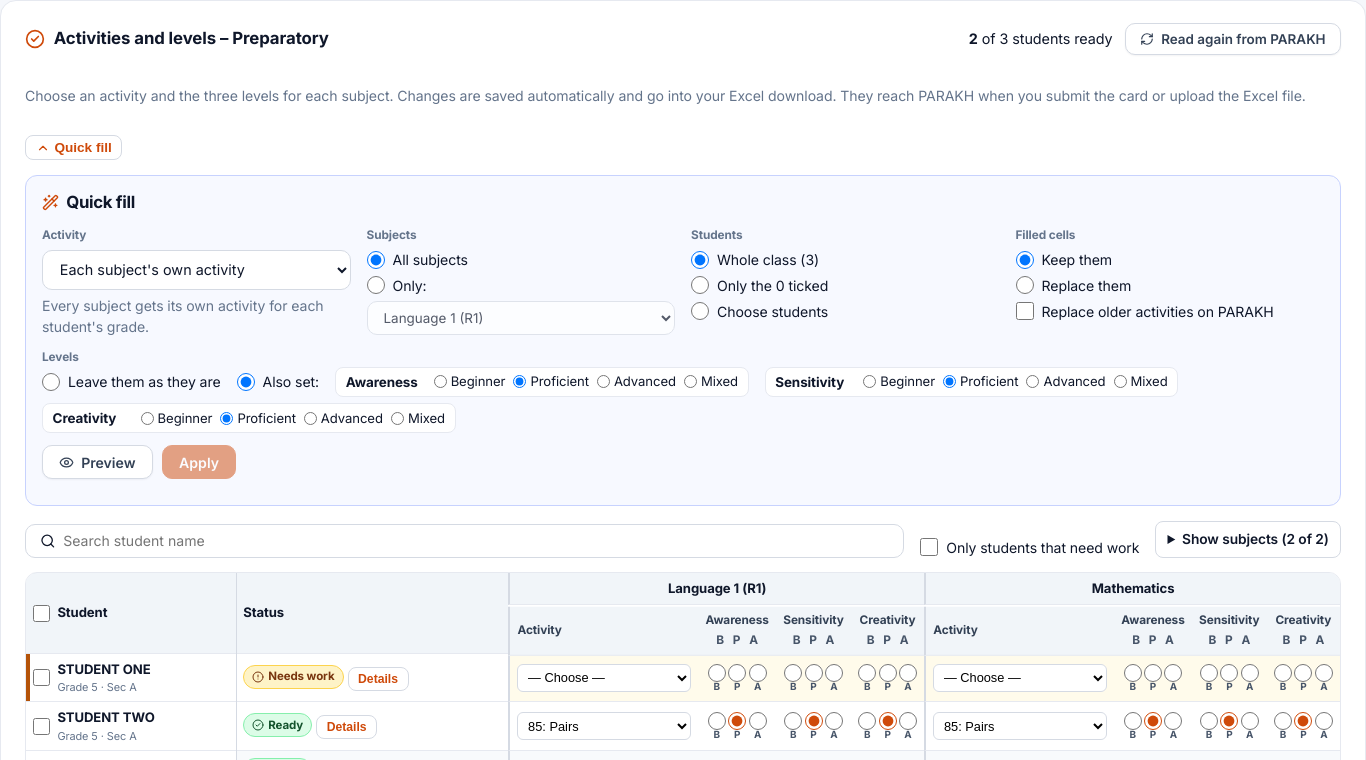
Test: Activities grid › fills the whole class with one activity after a preview
Expected: the text "STUDENT ONE" is shown, [57, 660, 151, 680]
Select "85: Pairs" in the dropdown labelled "Activity" at point(196, 270), box [42, 250, 350, 290]
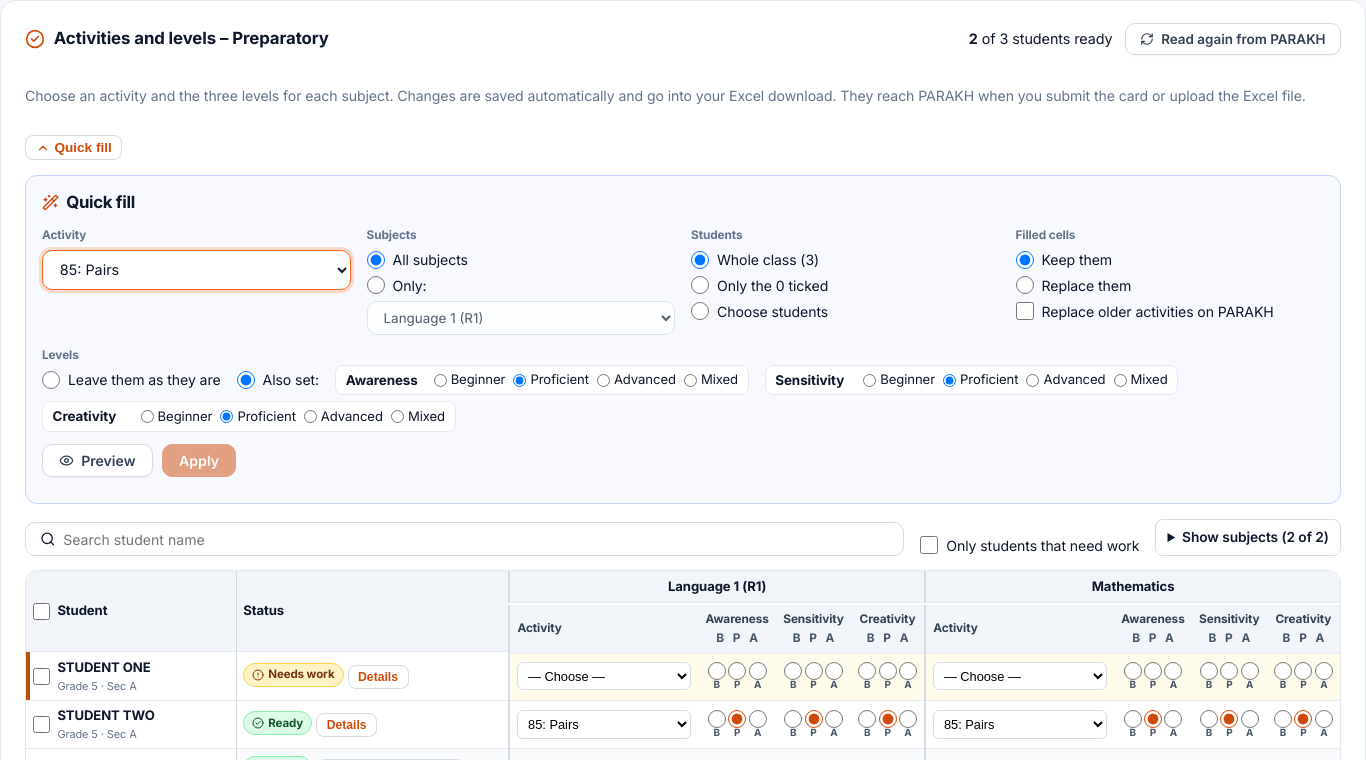
Expected: the button "Apply" is disabled, [162, 444, 236, 477]
Click the button "Preview" at point(97, 460), box [42, 444, 152, 477]
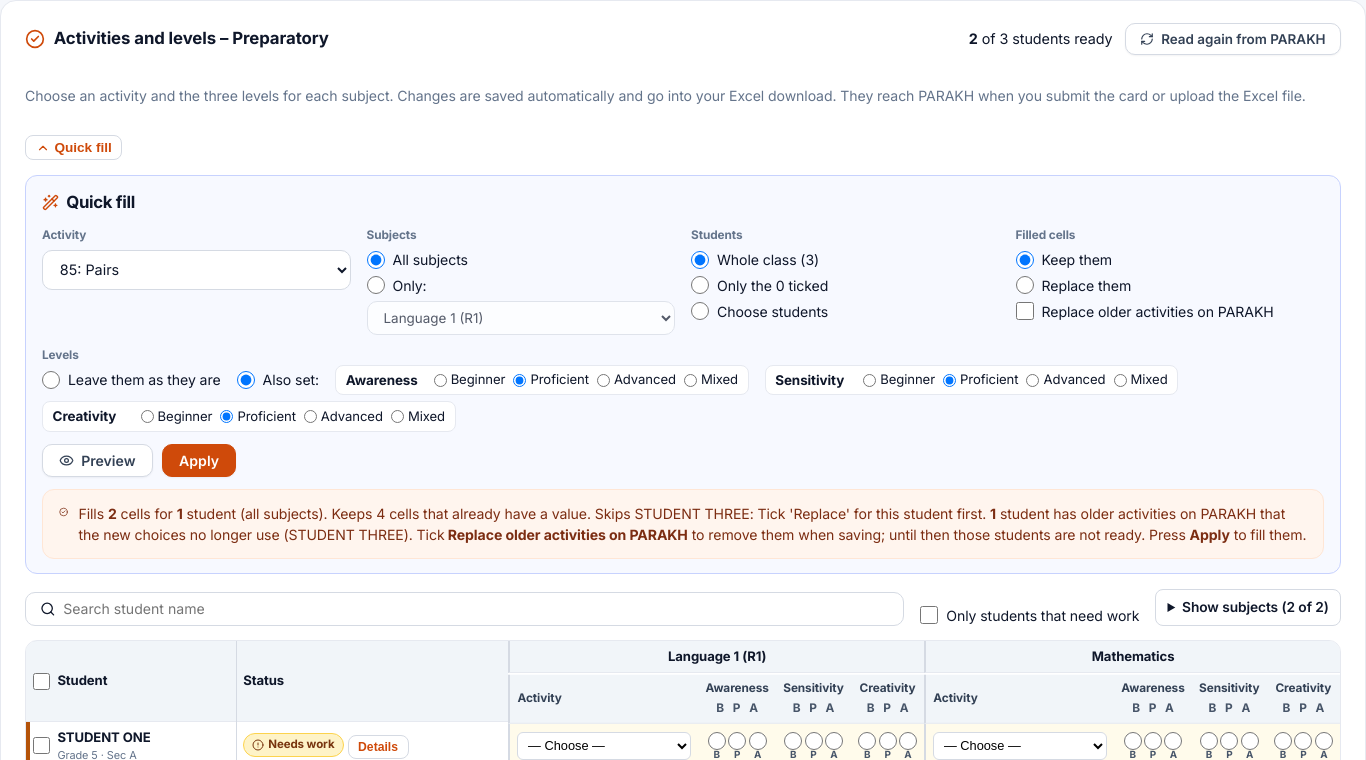
Expected: the text "Fills" shows "Fills 2 cells for 1 student", [78, 503, 1307, 545]
Click the button "Apply" at point(199, 460), box [162, 444, 236, 477]
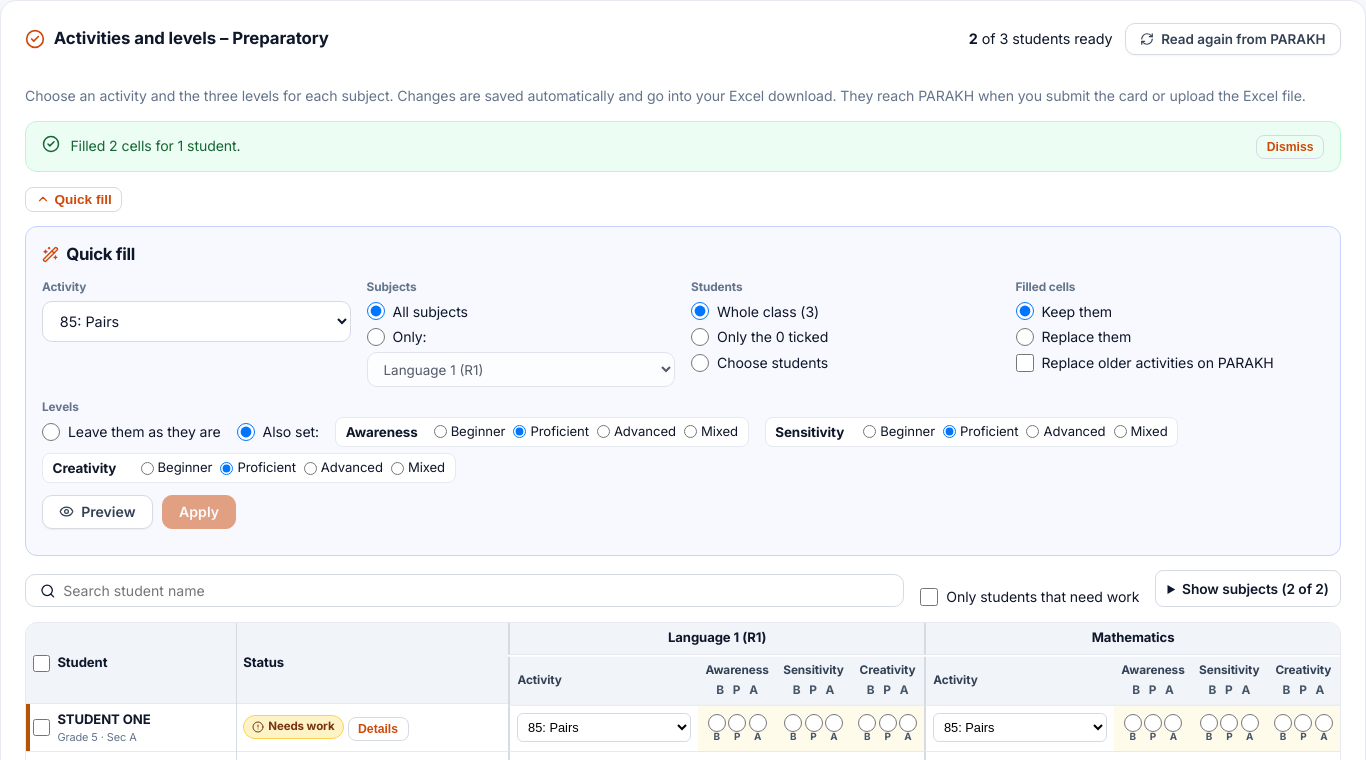
Expected: the text "Filled 2 cells for 1 student." is shown, [70, 137, 241, 154]
Expected: the dropdown named "STUDENT ONE, Mathematics, activity" shows "85: Pairs", [933, 713, 1107, 742]
